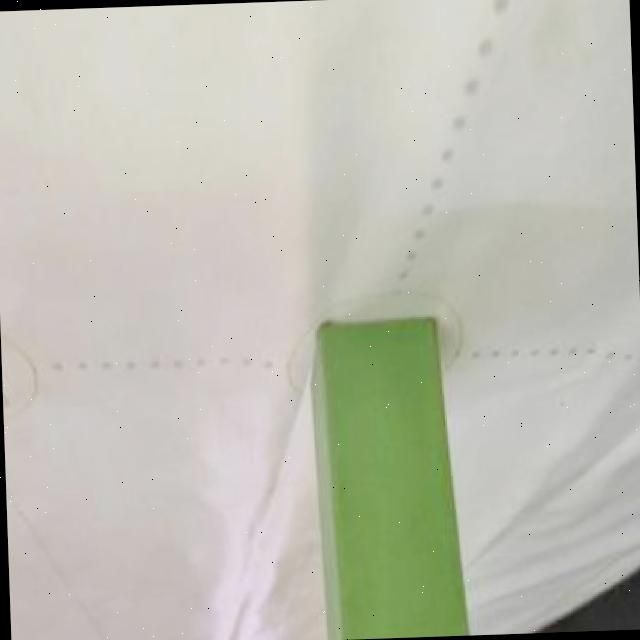greenbox: (306, 317, 472, 640)
